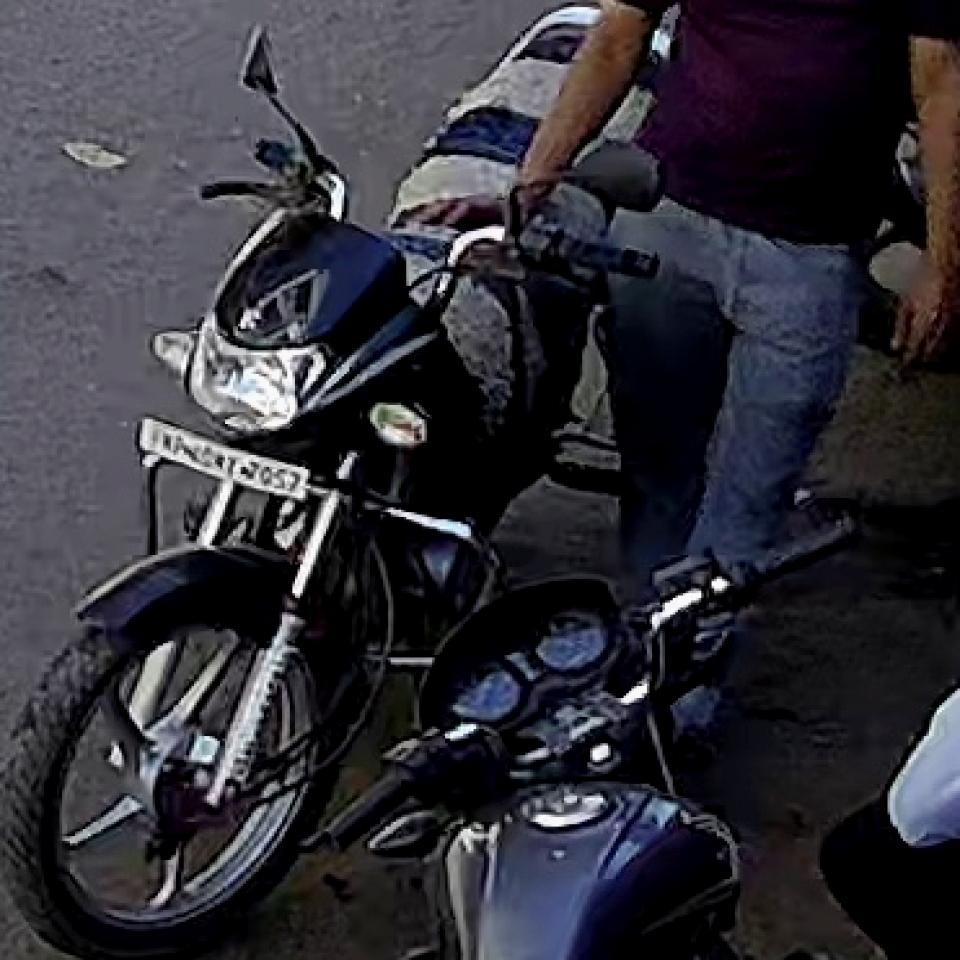head_light: (190, 322, 331, 428)
